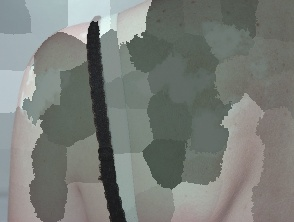vitiligo: (114, 0, 294, 222), (15, 46, 92, 169)
